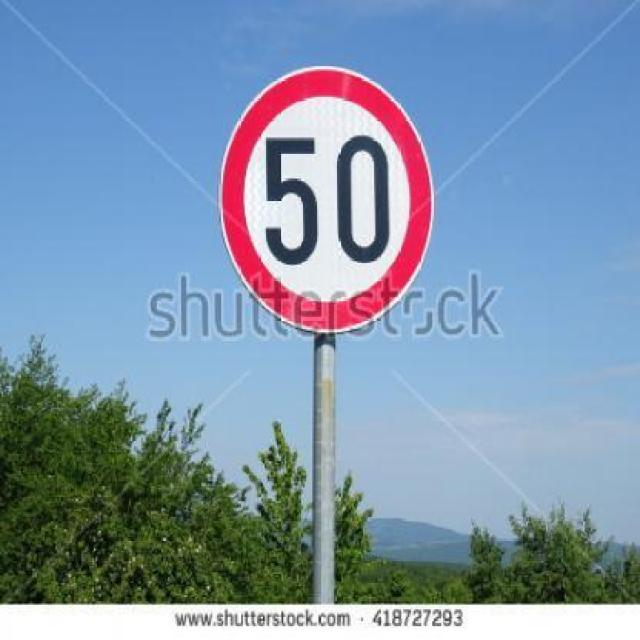Speed limit 50: (215, 62, 436, 338)
